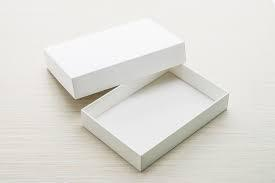box: (43, 17, 230, 171)
